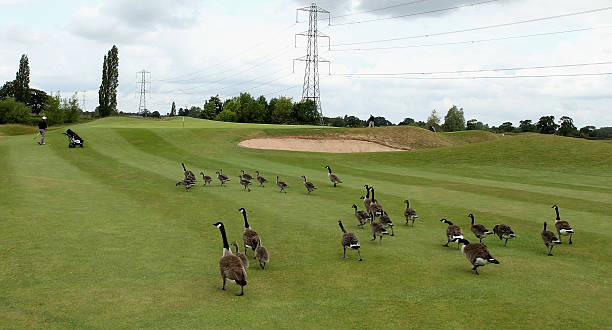goose: (209, 217, 247, 299), (326, 217, 366, 270), (452, 235, 499, 280), (546, 202, 583, 254), (234, 205, 261, 259), (464, 210, 492, 245), (178, 157, 202, 197), (438, 215, 463, 253), (252, 236, 272, 276), (538, 218, 557, 260), (319, 162, 346, 190), (350, 200, 370, 234), (492, 222, 515, 250), (399, 196, 418, 229), (367, 212, 385, 245), (377, 208, 396, 239), (367, 185, 384, 218), (213, 168, 236, 191), (272, 172, 292, 198), (300, 174, 319, 198), (359, 181, 372, 213), (253, 166, 270, 189), (234, 173, 253, 191), (197, 168, 215, 185), (238, 166, 255, 183)
